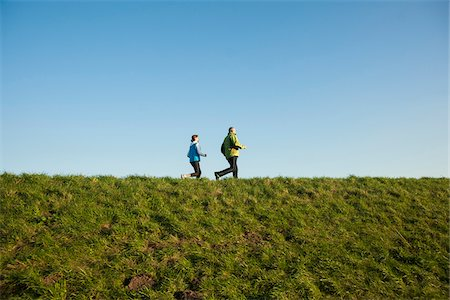Person: (212, 122, 253, 193), (174, 127, 212, 181)
